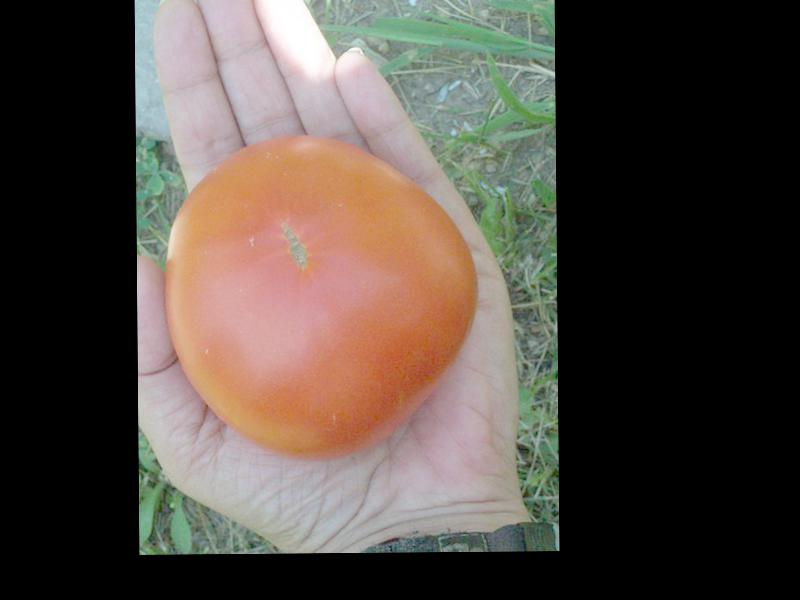Tomato: (164, 134, 479, 457)
